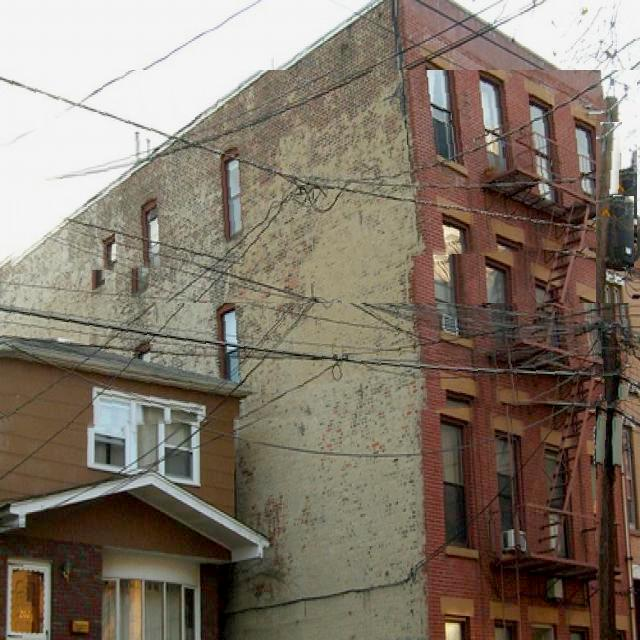pole: (596, 123, 614, 550), (596, 620, 601, 639)
transformer: (614, 195, 634, 267)
wire: (1, 71, 637, 250), (0, 304, 640, 405)
